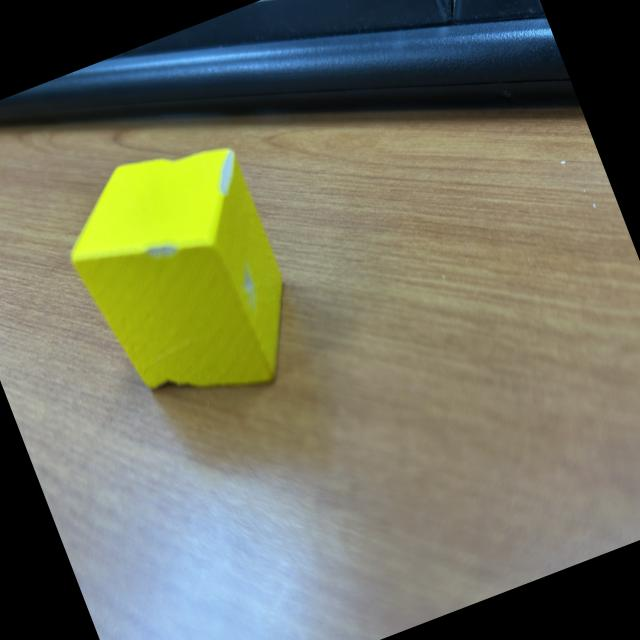broken: (45, 124, 318, 433)
